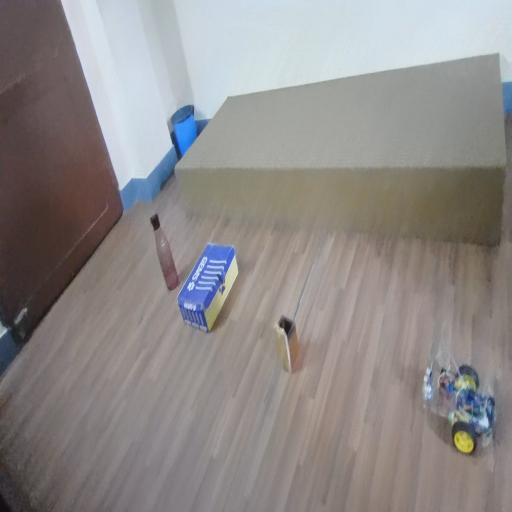Bottle: (137, 210, 202, 298)
